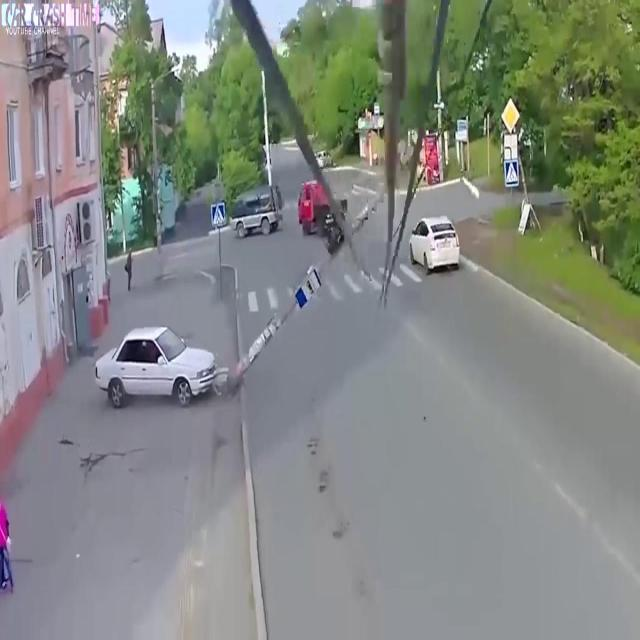accident: (85, 314, 265, 418)
